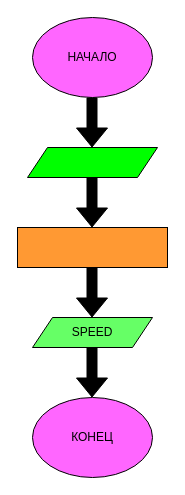
Some shapes in this 185 by 495 pixel diagram are drawn without their labels. The shapes that lost their labels are listed below. From the top down, each one's centre as x and y in pixels, then its label:
At point 92,162: "TIME, LENGHT".
At point 92,247: "SPEED = LENGHT / TIME".
